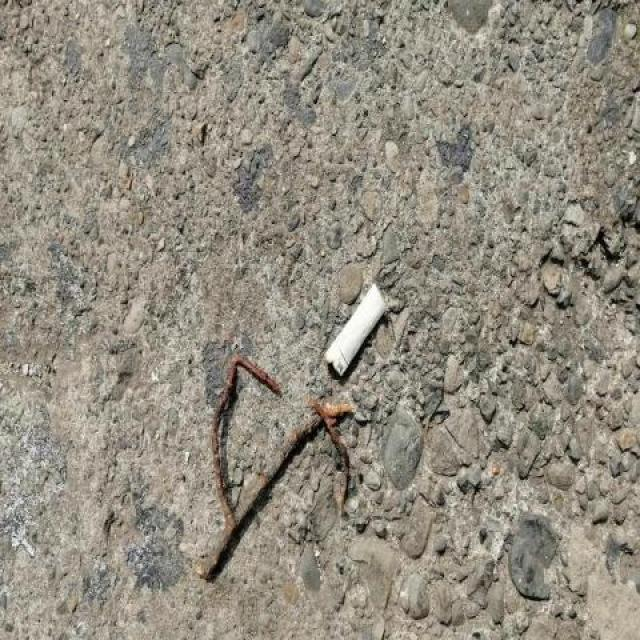non-organic waste: (320, 276, 392, 384)
